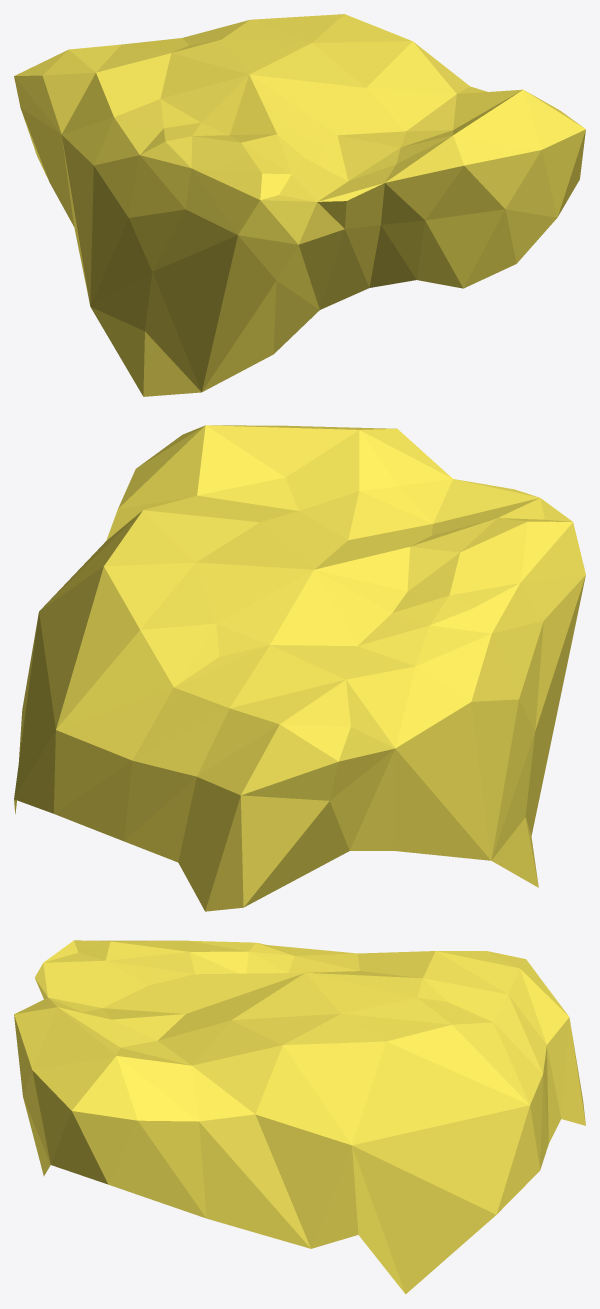
Rendered from ground_018.fbx.
3 renders of one model, top to bottom at view 1: azimuth 30°, elevation 25°; view 2: azimuth 150°, elevation 25°; view 3: azimuth 270°, elevation 25°, orthographic. The views are drawn at different scales.
Parts seen in each view (by area): view 1: ground.018; view 2: ground.018; view 3: ground.018.
Boxes of the visible parts, bbox=[...] form: ground.018: bbox=[14, 14, 585, 396]; ground.018: bbox=[14, 425, 585, 911]; ground.018: bbox=[14, 940, 585, 1294].
Bounding box in the file's own units: 1958 × 1280 × 2438.
Materials: 1 (1 with a texture image).
